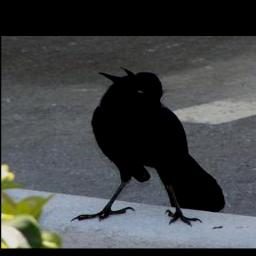Crow: (70, 66, 224, 225)
